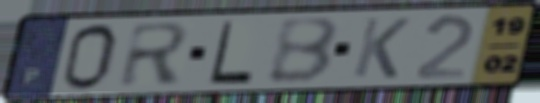0: (60, 22, 123, 91)
2: (413, 12, 478, 81)
B: (265, 15, 343, 85)
K: (349, 16, 414, 81)
L: (205, 19, 256, 86)
R: (115, 20, 194, 89)
